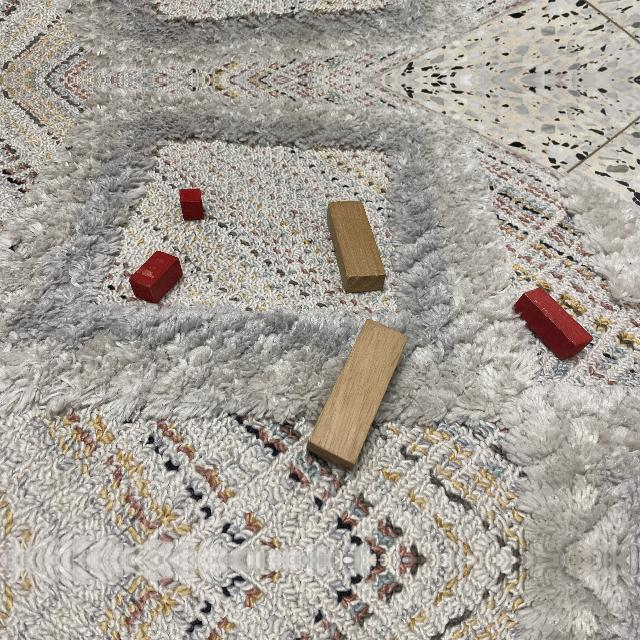jenga: (307, 319, 408, 471), (326, 200, 387, 295)
red block: (513, 289, 594, 363), (129, 251, 183, 304)
red cube: (179, 188, 204, 222)
